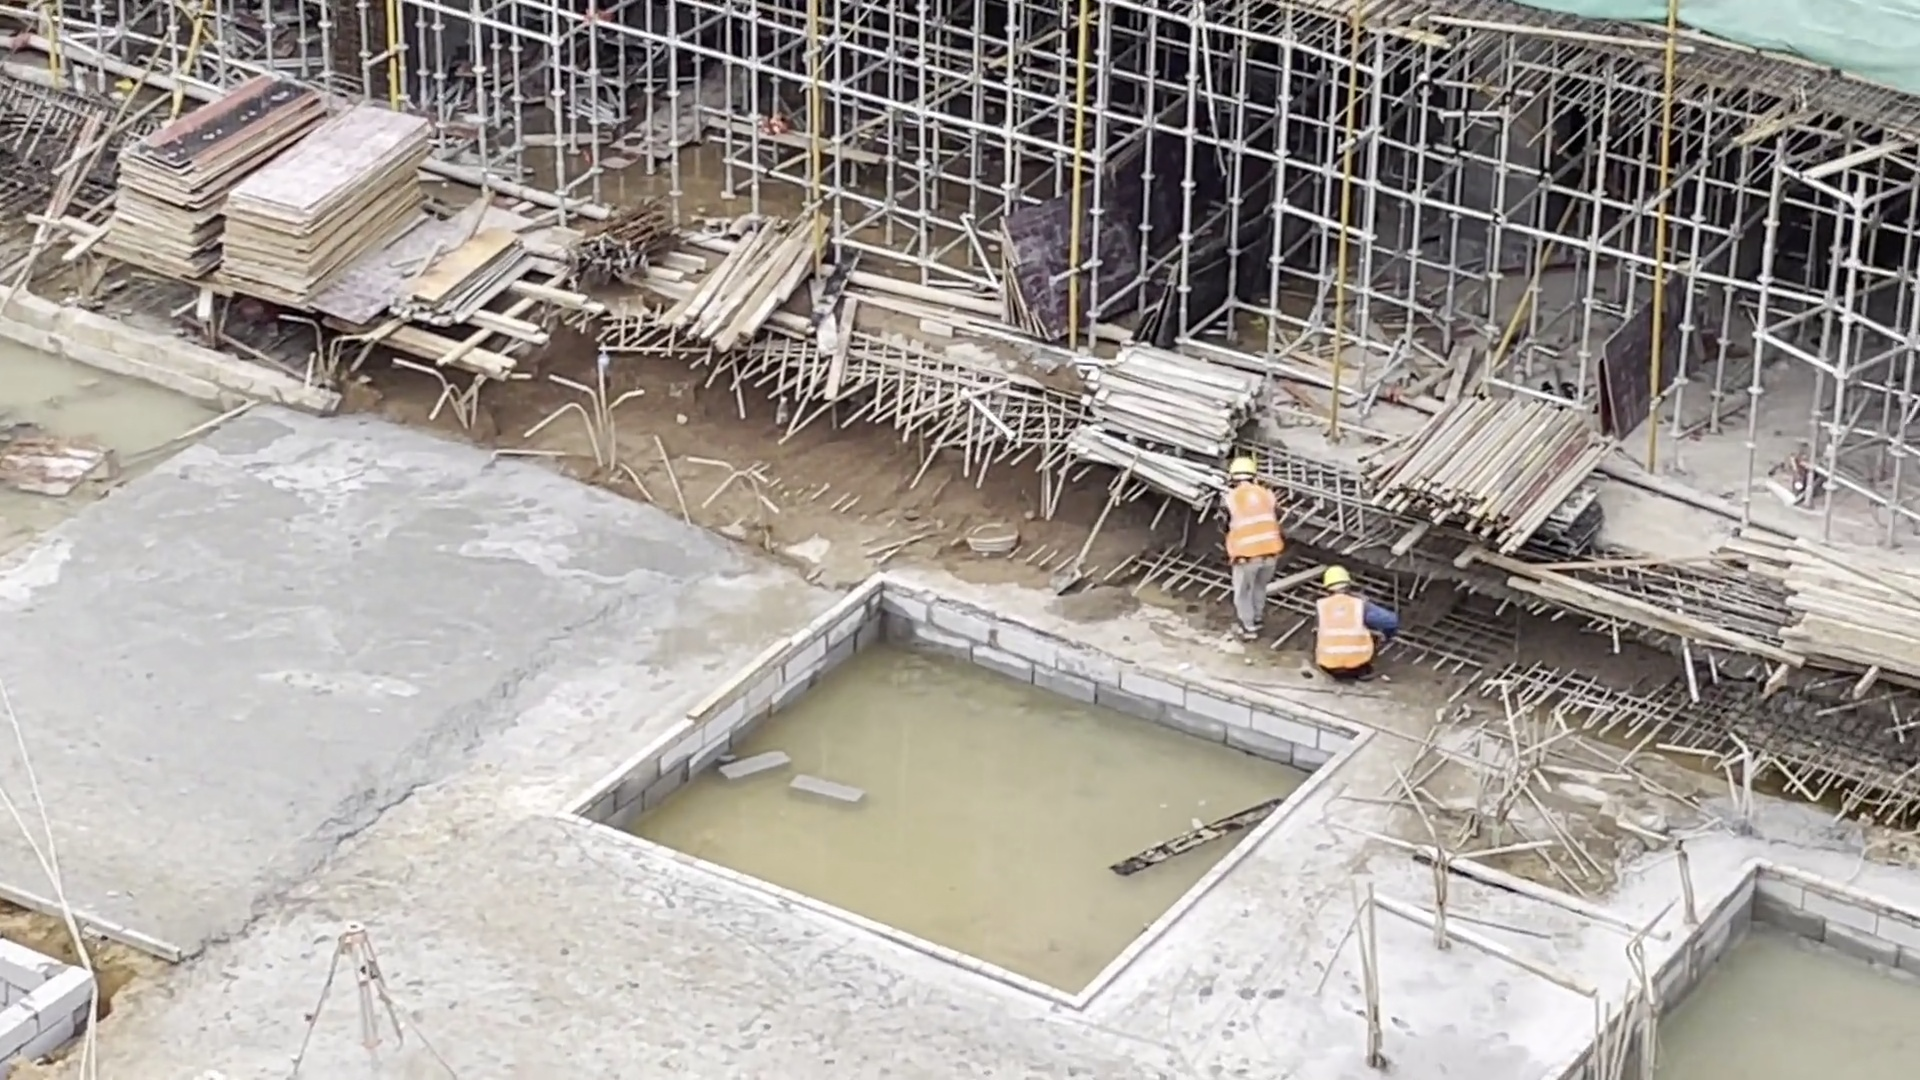board: (104, 72, 329, 272), (222, 97, 431, 306)
helmet: (1321, 565, 1352, 591), (1230, 456, 1258, 478)
person: (1217, 459, 1291, 652), (1317, 566, 1402, 690)
vest: (1314, 598, 1374, 673), (1225, 487, 1285, 558)
wood: (1064, 339, 1266, 508), (1775, 528, 1920, 675), (671, 216, 838, 343)
